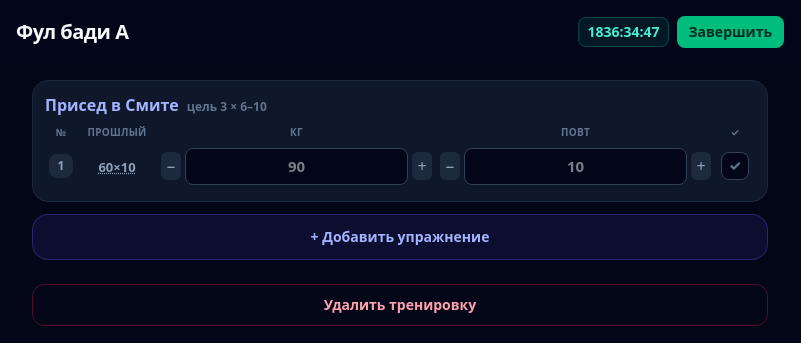
Test: WorkoutLogger › степпер работает от значения с запятой
expect the text "Присед в Смите" is shown: met, box [45, 94, 179, 116]
Type "26,5" into the field named "вес".
click(297, 166); type("26,5")  # box [185, 148, 408, 184]
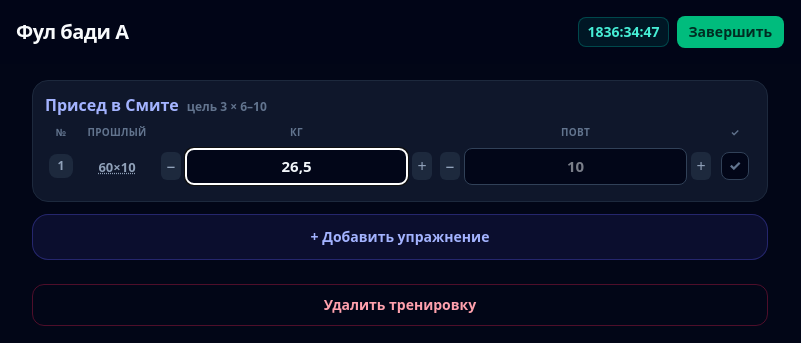
Click the button named "плюс".
click(422, 166)  # box [412, 152, 432, 180]
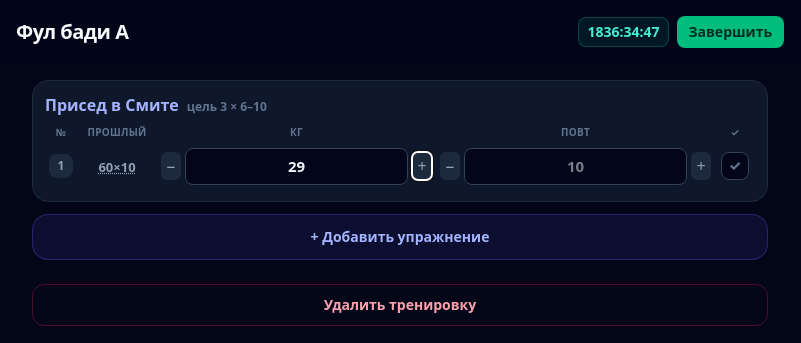
expect the field named "вес" holds "29": met, box [185, 148, 408, 184]
